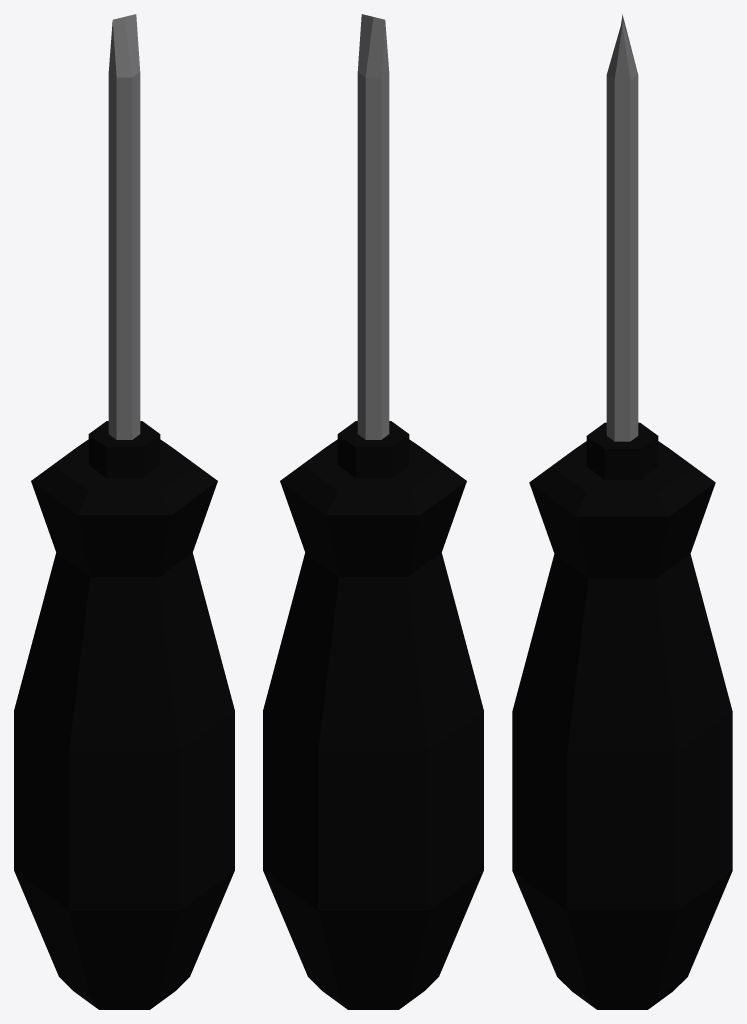
File: Screwdriver.fbx
The picture shows the model from 3 angles, left to right: view 1: azimuth 30°, elevation 25°; view 2: azimuth 150°, elevation 25°; view 3: azimuth 270°, elevation 25°; orthographic projection.
Visible parts, largest first — view 1: Screwdriver; view 2: Screwdriver; view 3: Screwdriver.
Boxes of the visible parts, x1,y1,x2,y2 form: Screwdriver: (14,14,234,1009); Screwdriver: (263,14,483,1009); Screwdriver: (512,14,732,1009).
Size of the model in its own units: 4.23 by 23.78 by 4.88.
